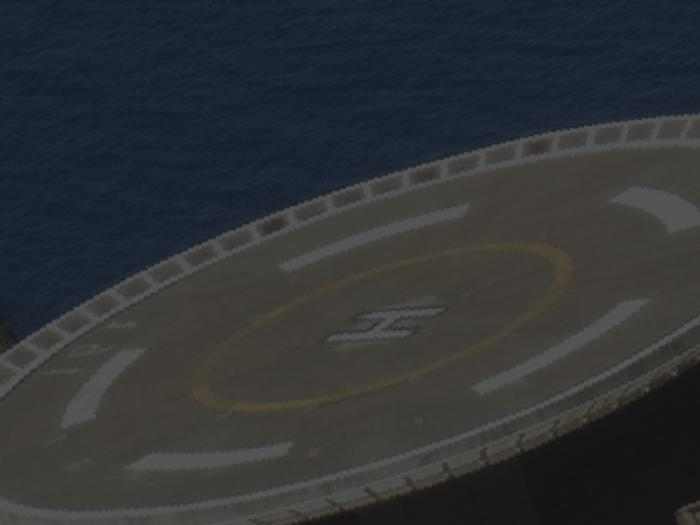Apron: (196, 232, 570, 401)
